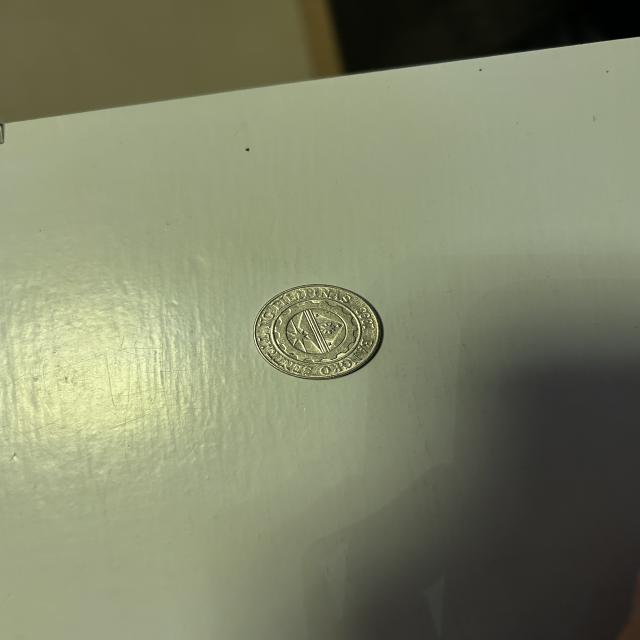1_Old_Back: (266, 294, 366, 366)
